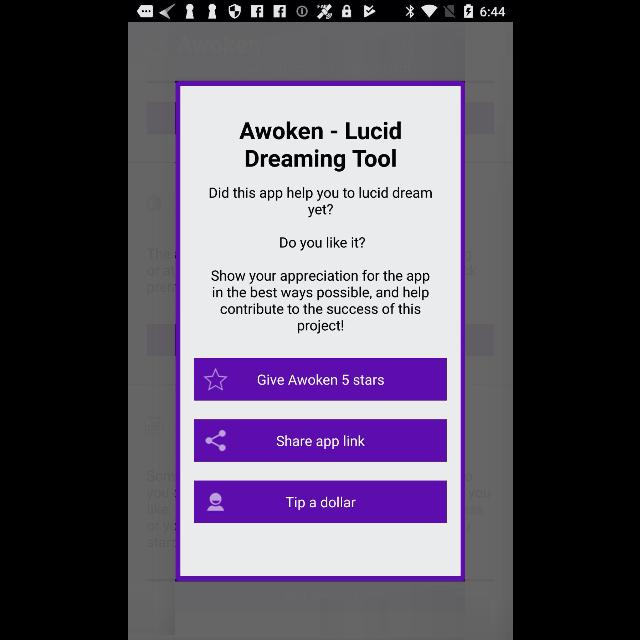panel: (175, 82, 465, 580)
text: (210, 270, 428, 334), (239, 121, 401, 172), (209, 186, 431, 218), (280, 237, 364, 251)
textbutton: (194, 358, 446, 400), (194, 420, 446, 462), (194, 481, 446, 523)
uppertaskbar: (128, 1, 512, 23)
